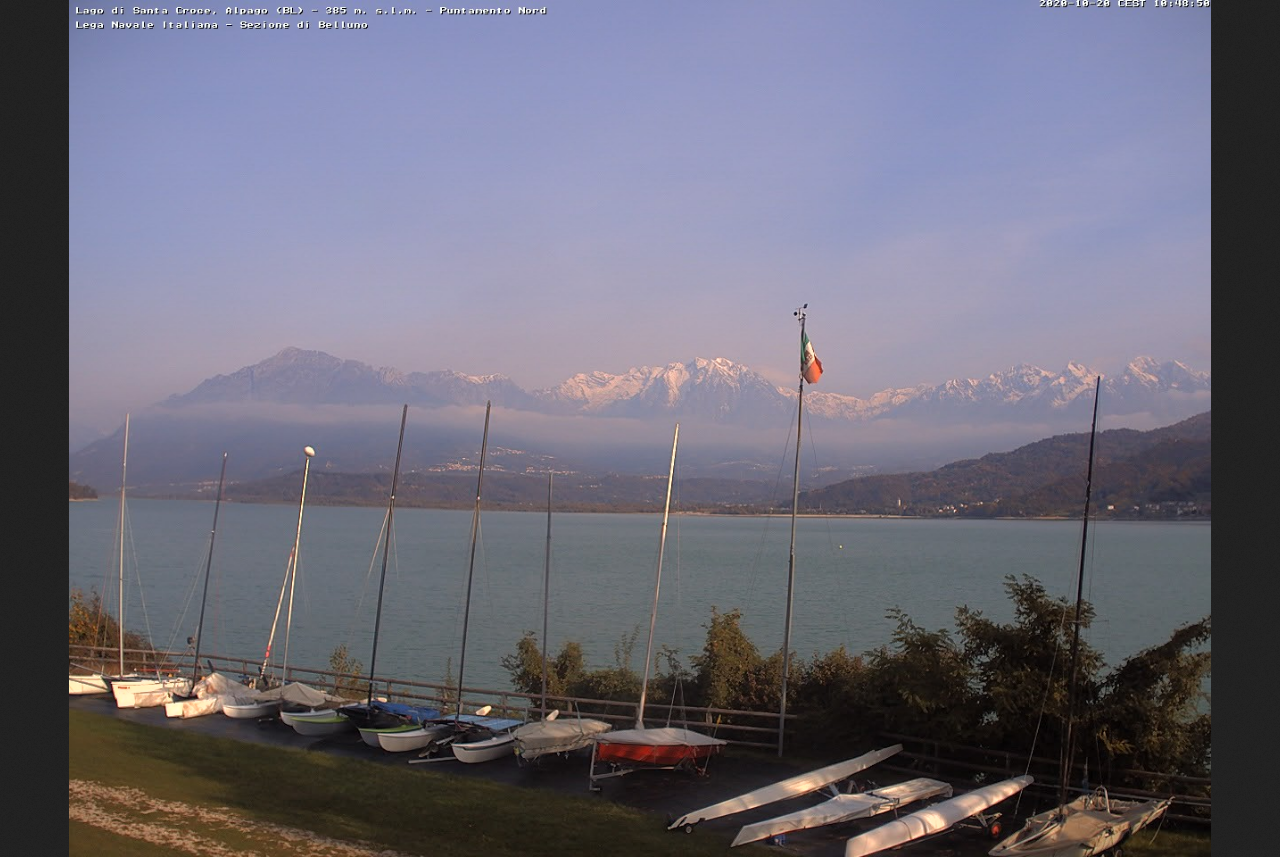no: (795, 316, 829, 388)
